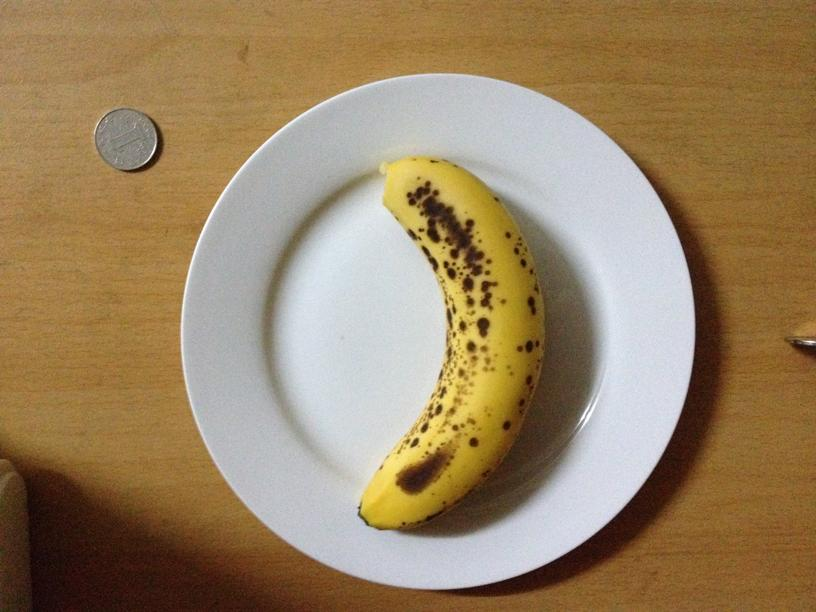banana: (348, 152, 548, 530)
coin: (90, 106, 159, 172)
